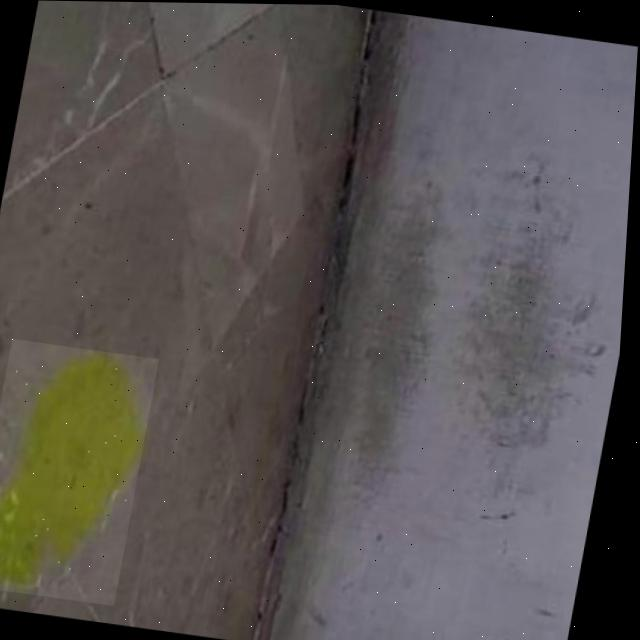spillage: (0, 349, 148, 591)
